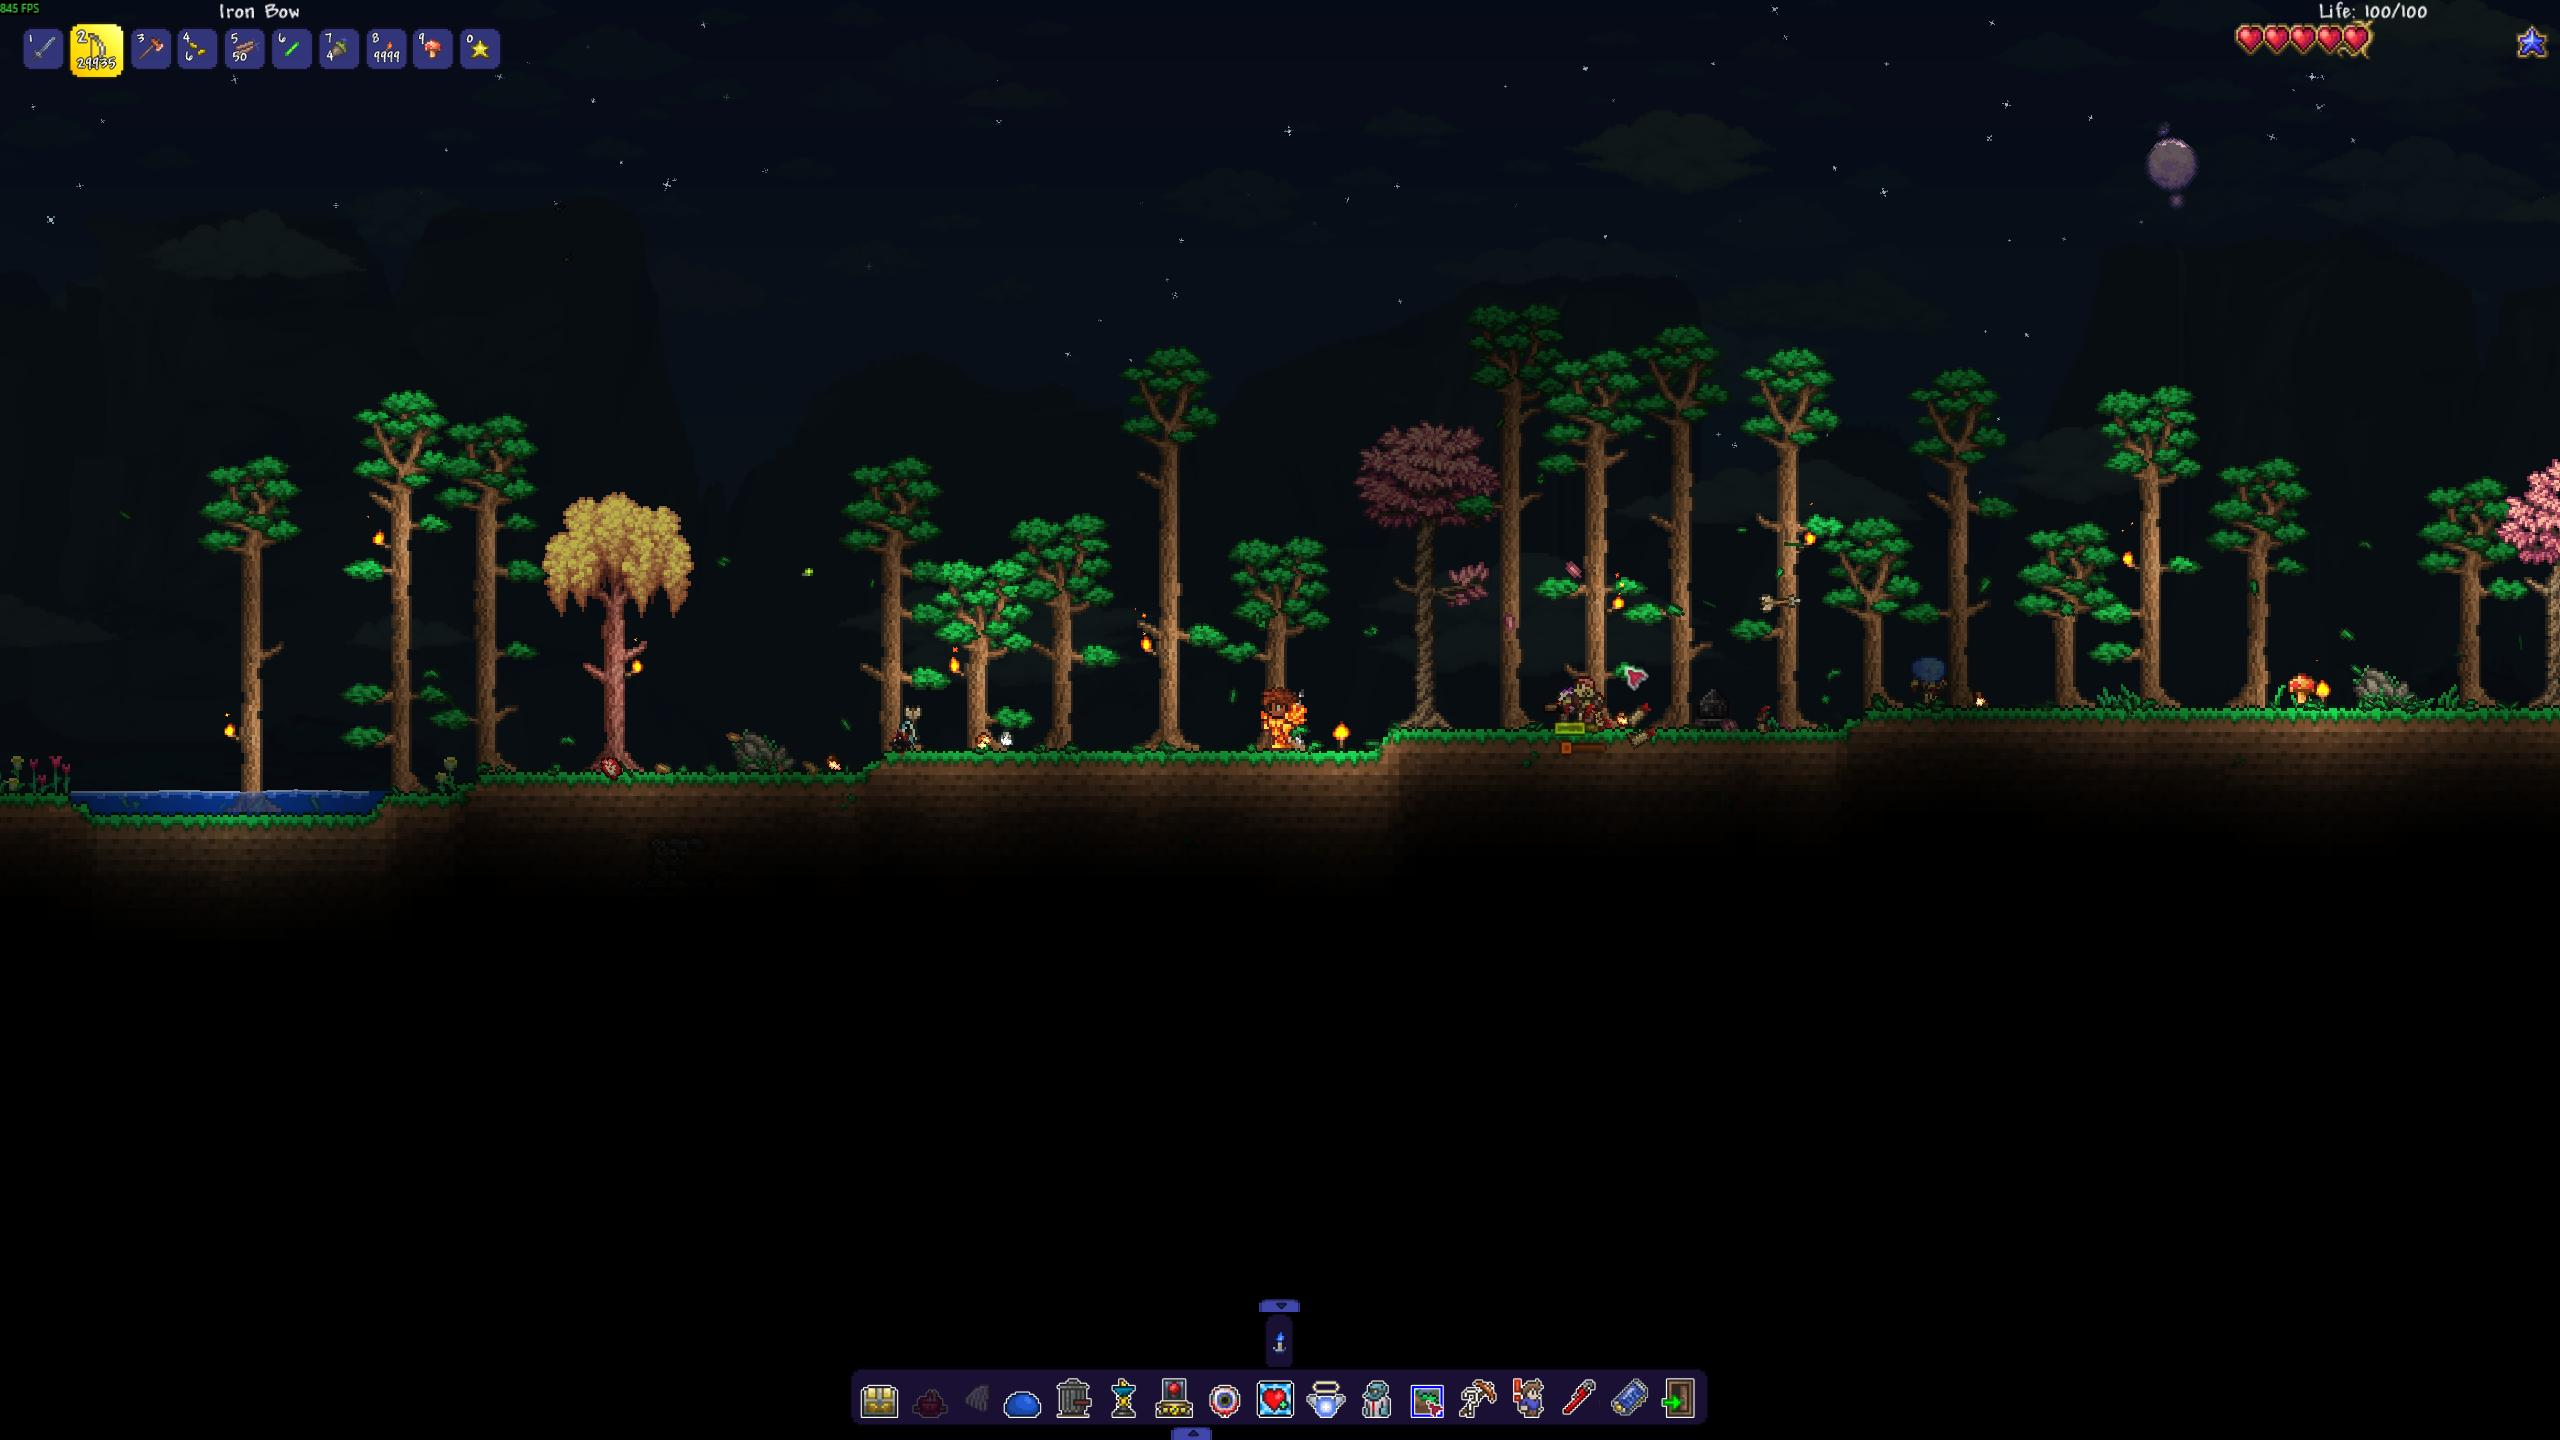Zombie: (1904, 651, 1952, 705), (1565, 670, 1605, 730)
